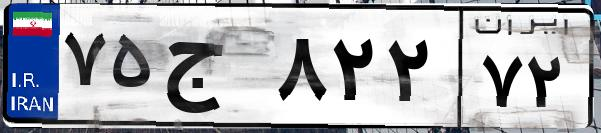2: (385, 28, 445, 110), (330, 28, 385, 110), (525, 38, 570, 115)
5: (110, 28, 158, 98)
7: (57, 26, 110, 100), (475, 38, 525, 113)
8: (270, 28, 330, 110)
ج: (158, 20, 270, 120)
